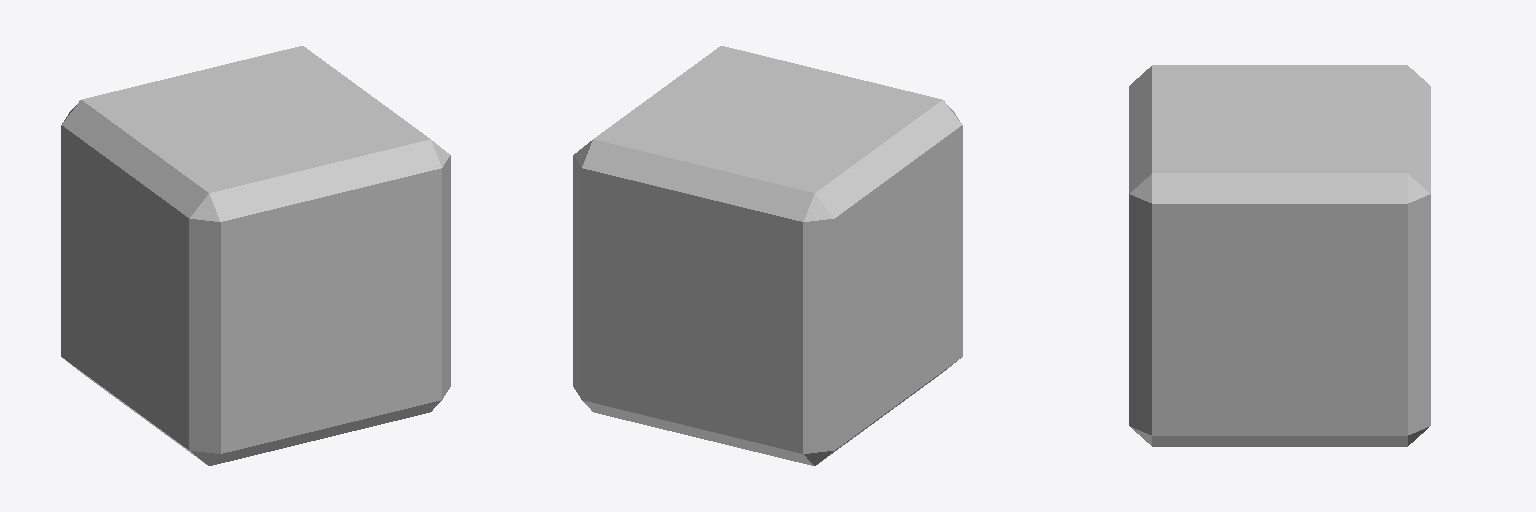
Rendered from block.obj.
3 views of the same model, side by side, from view 1: azimuth 30°, elevation 25°; view 2: azimuth 150°, elevation 25°; view 3: azimuth 270°, elevation 25° (orthographic).
Visible parts, largest first — view 1: Cube1; view 2: Cube1; view 3: Cube1.
Boxes of the visible parts, box(x1,y1,x2,y2) form: Cube1: box(61, 46, 450, 465); Cube1: box(573, 46, 962, 465); Cube1: box(1129, 65, 1430, 446).
Size of the model in its own units: 2 by 2 by 2.